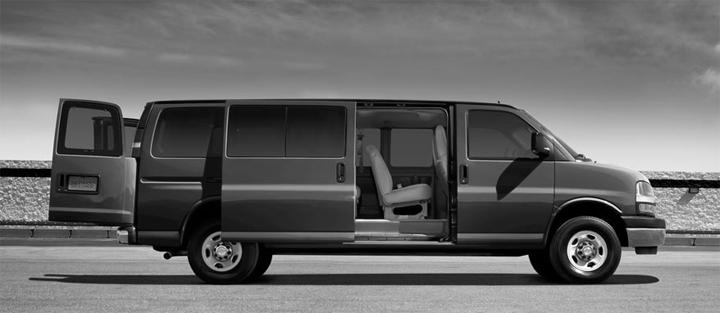car: (51, 97, 669, 286)
